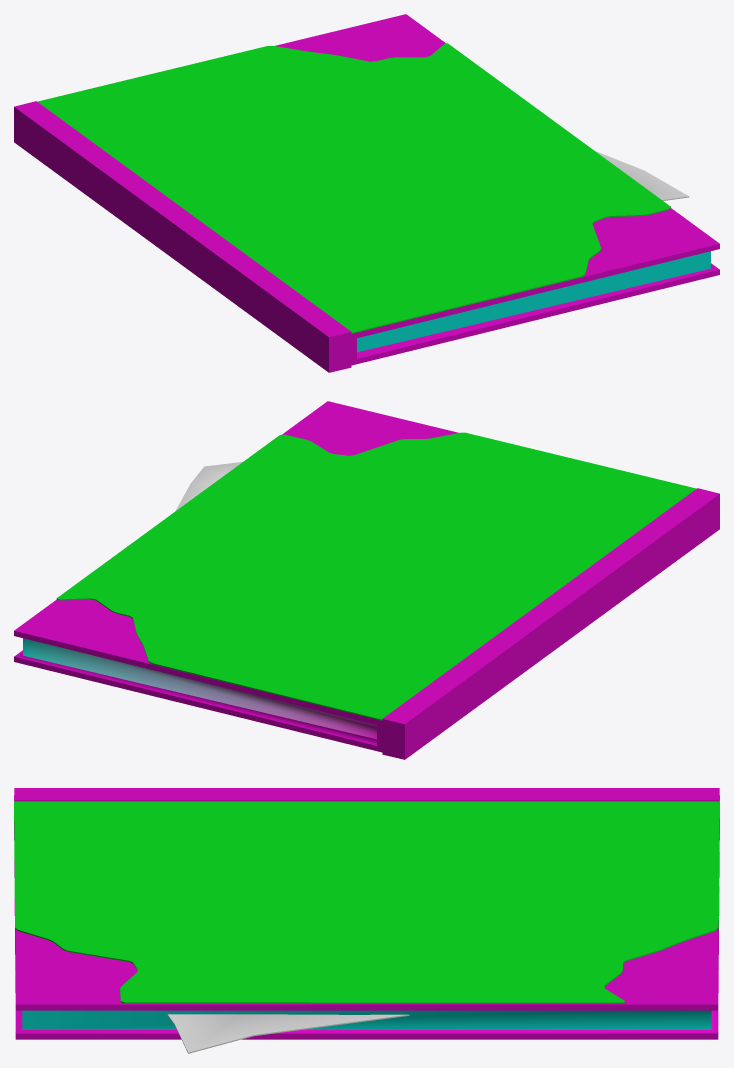
Rendered from книга.fbx.
The picture shows the model from 3 angles, top to bottom: view 1: azimuth 30°, elevation 25°; view 2: azimuth 150°, elevation 25°; view 3: azimuth 270°, elevation 25°; orthographic projection. The views are drawn at different scales.
Visible parts, largest first — view 1: книга; view 2: книга; view 3: книга.
Part boxes in pixels (x1,y1,x2,y2): книга: (14,14,719,372); книга: (14,401,719,759); книга: (14,788,719,1053).
Size of the model in its own units: 61.93 by 4.81 by 77.26.
